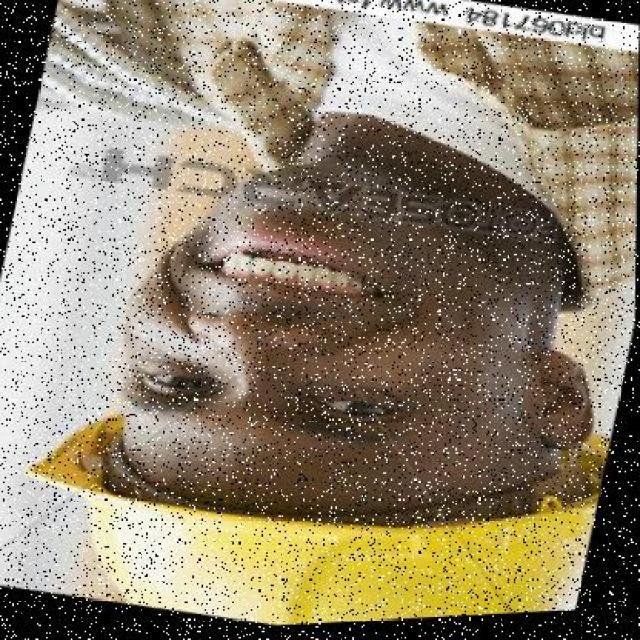helmet: (0, 354, 596, 638)
